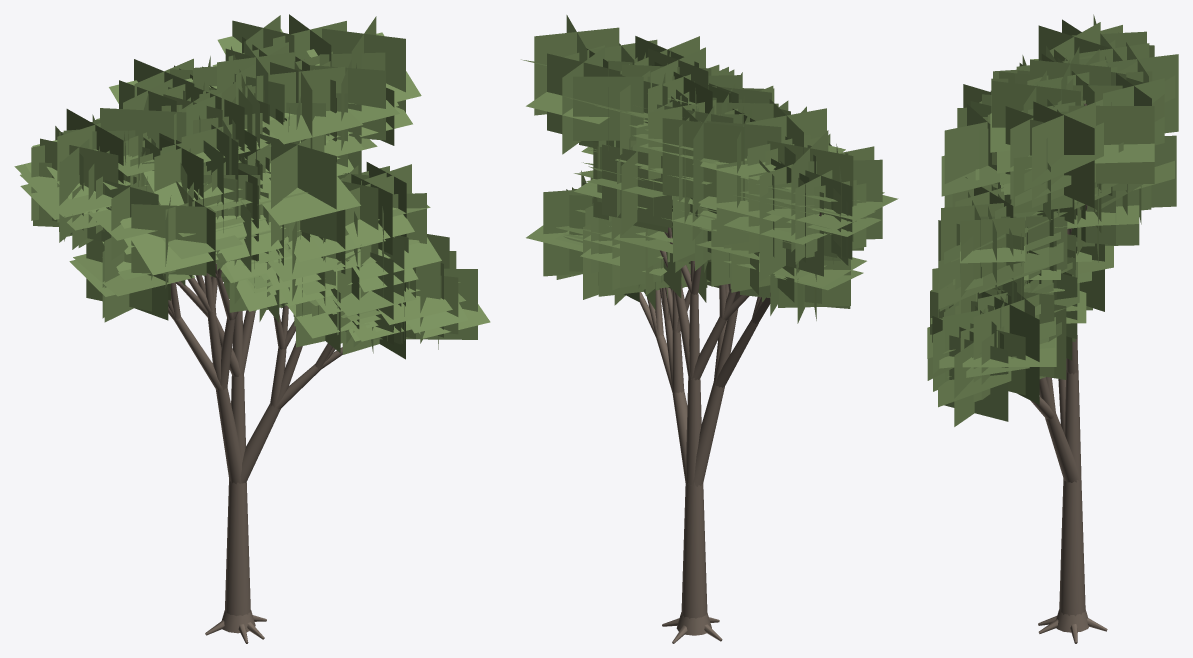
File: elm.glb
The picture shows the model from 3 angles, left to right: view 1: azimuth 30°, elevation 25°; view 2: azimuth 150°, elevation 25°; view 3: azimuth 270°, elevation 25°; orthographic projection.
Visible parts, largest first — view 1: elm; view 2: elm; view 3: elm.
Part boxes in pixels (x1,y1,x2,y2): elm: [14, 14, 490, 643]; elm: [521, 15, 898, 643]; elm: [927, 14, 1178, 643].
Size of the model in its own units: 12.51 by 18.1 by 7.18.
